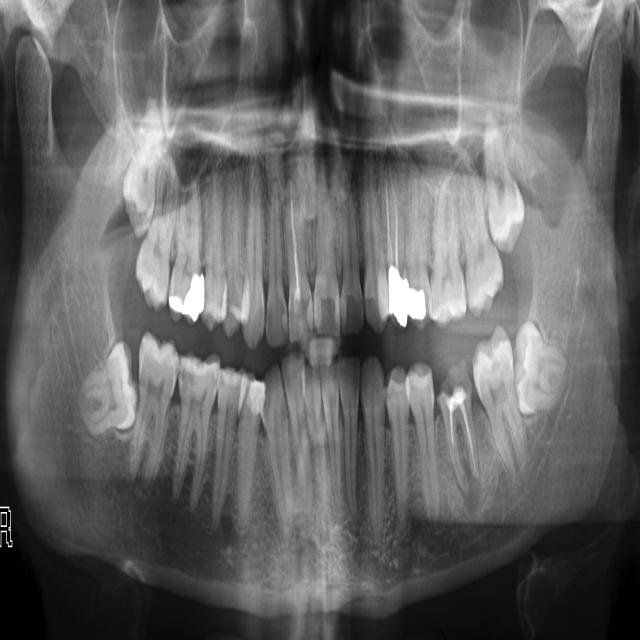tooth: (473, 327, 526, 474), (132, 336, 177, 480), (177, 357, 217, 508), (459, 183, 503, 312), (262, 366, 294, 535), (136, 166, 174, 308), (80, 342, 136, 436), (515, 321, 569, 415), (313, 179, 340, 367), (430, 190, 466, 323), (483, 128, 522, 248), (170, 177, 202, 320), (408, 365, 438, 512), (286, 179, 312, 347), (361, 359, 386, 525), (236, 374, 263, 524), (201, 175, 227, 326), (362, 186, 389, 330), (385, 367, 410, 517), (440, 389, 478, 487), (215, 367, 239, 521), (339, 184, 363, 334), (404, 188, 430, 324), (265, 180, 286, 345), (244, 172, 264, 344), (303, 364, 327, 502), (223, 176, 243, 333), (387, 188, 409, 327), (340, 358, 359, 513)
